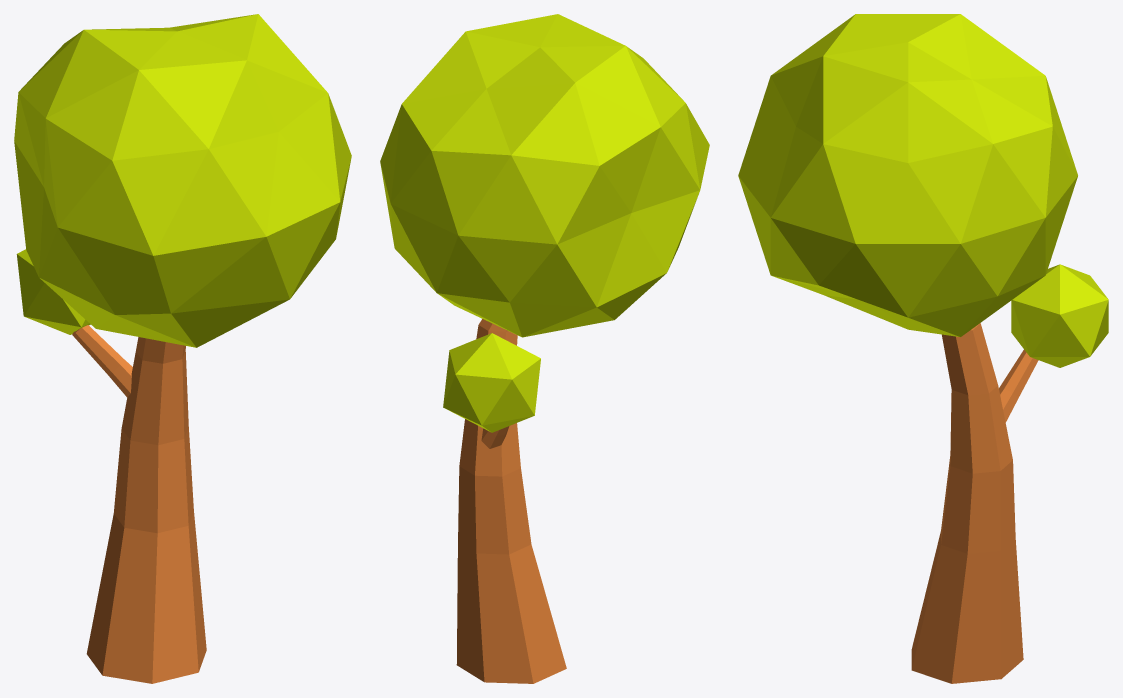
The model's file is Tree2.fbx.
3 renders of one model, left to right at view 1: azimuth 30°, elevation 25°; view 2: azimuth 150°, elevation 25°; view 3: azimuth 270°, elevation 25°, orthographic. The views are drawn at different scales.
Parts seen in each view (by area): view 1: Tree2; view 2: Tree2; view 3: Tree2.
Boxes of the visible parts, <box> form: Tree2: <box>14,14,351,683</box>; Tree2: <box>380,14,709,683</box>; Tree2: <box>738,14,1108,683</box>.
Bounding box in the file's own units: 56.97 × 120 × 65.28.
